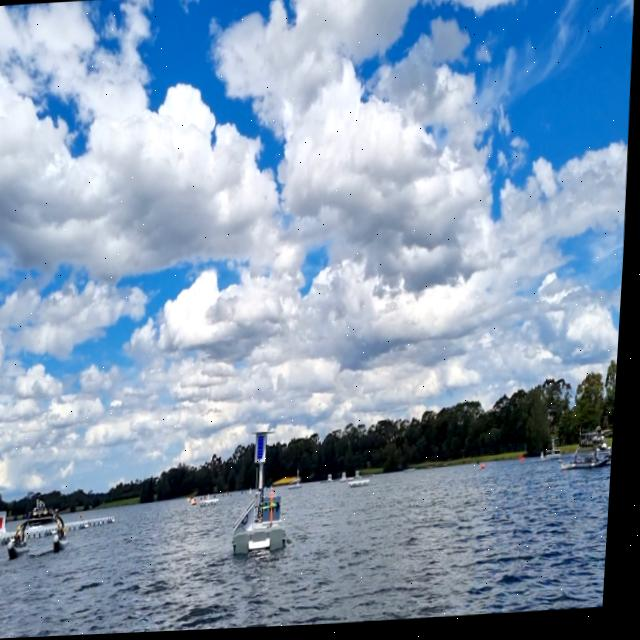led: (261, 435, 271, 464)
